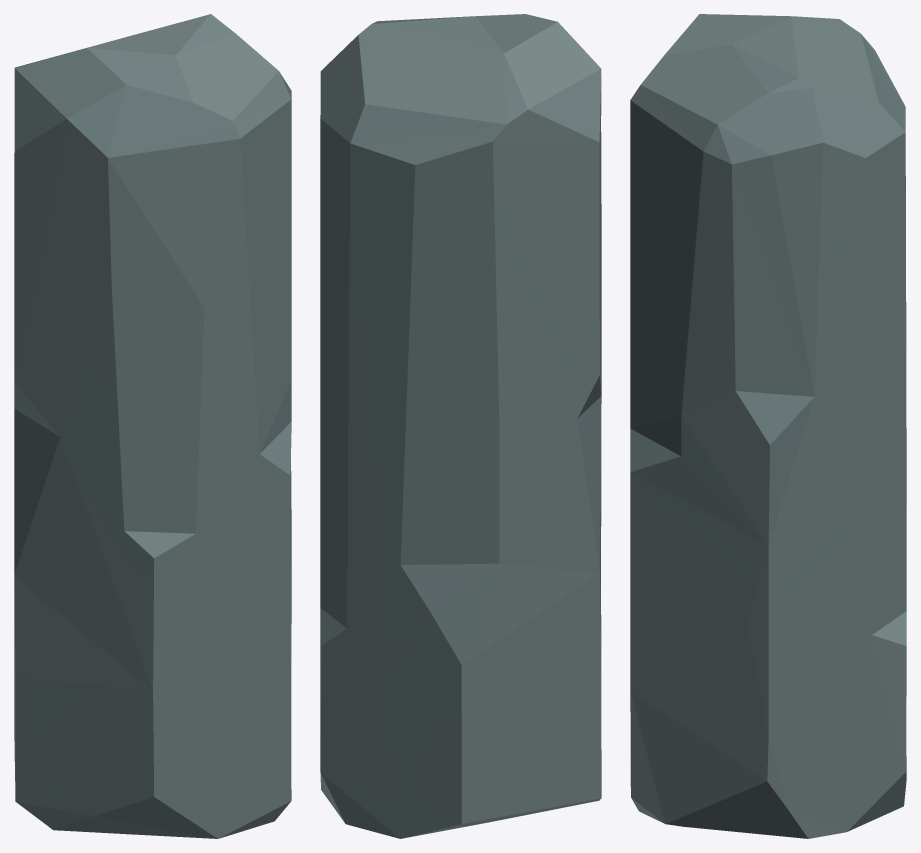
File: Pillar Bridge.fbx
The picture shows the model from 3 angles, left to right: view 1: azimuth 30°, elevation 25°; view 2: azimuth 150°, elevation 25°; view 3: azimuth 270°, elevation 25°; orthographic projection.
Parts seen in each view (by area): view 1: SM_Env_Rock_Pillar_04; view 2: SM_Env_Rock_Pillar_04; view 3: SM_Env_Rock_Pillar_04.
Boxes of the visible parts, x1,y1,x2,y2 form: SM_Env_Rock_Pillar_04: [14, 14, 291, 838]; SM_Env_Rock_Pillar_04: [320, 14, 601, 838]; SM_Env_Rock_Pillar_04: [630, 14, 906, 838].
Bounding box in the file's own units: 72.25 × 186 × 62.88.
